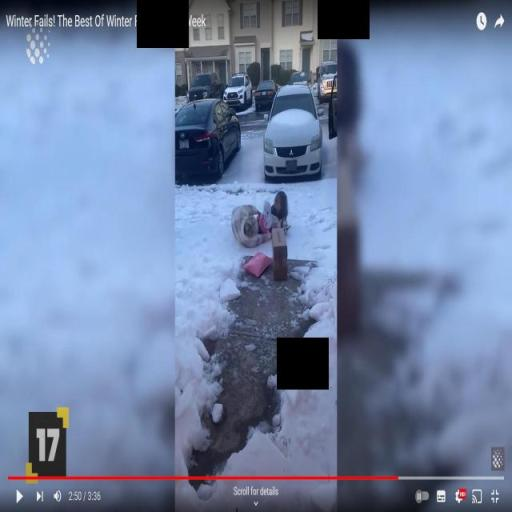Fall: (233, 187, 290, 246)
